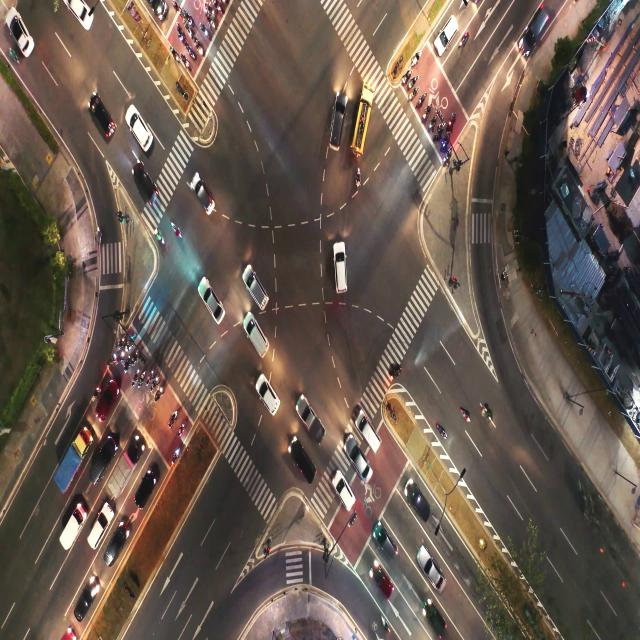bus: (357, 119, 365, 143)
car: (71, 3, 91, 29), (355, 456, 369, 482), (413, 491, 423, 522), (297, 451, 310, 472), (19, 26, 30, 50), (211, 300, 222, 323), (336, 262, 348, 283), (135, 124, 149, 142), (98, 112, 109, 134), (94, 512, 104, 536), (141, 476, 155, 493), (431, 610, 441, 632), (254, 286, 265, 306), (110, 534, 120, 555), (534, 13, 545, 32), (341, 481, 350, 504), (368, 429, 378, 449), (200, 186, 210, 206), (442, 21, 451, 43), (255, 329, 264, 351), (386, 539, 396, 558), (143, 178, 152, 198), (333, 126, 343, 144), (104, 396, 112, 418), (432, 565, 440, 585), (264, 389, 274, 405), (377, 571, 387, 586), (96, 454, 103, 475), (81, 592, 87, 610)
motorcycle: (388, 357, 399, 382), (481, 403, 492, 420), (9, 49, 19, 66), (461, 407, 470, 425), (172, 226, 182, 239), (435, 422, 444, 436), (381, 617, 390, 630), (354, 170, 361, 186), (437, 123, 442, 138), (182, 56, 188, 68), (462, 34, 467, 48), (175, 448, 181, 459), (157, 230, 162, 243), (202, 28, 208, 38), (414, 54, 419, 64), (189, 49, 194, 59), (446, 152, 452, 160), (172, 409, 177, 418), (173, 50, 177, 61), (418, 99, 424, 106), (450, 115, 454, 125), (96, 387, 100, 397), (127, 356, 131, 366), (210, 7, 215, 15), (218, 4, 223, 12), (426, 107, 430, 116), (182, 422, 186, 431), (120, 352, 126, 358), (197, 46, 202, 53), (188, 27, 191, 38), (444, 139, 448, 147), (176, 6, 179, 16), (413, 78, 417, 85), (406, 74, 410, 81), (142, 373, 146, 380), (136, 368, 140, 375), (128, 340, 132, 347), (178, 33, 182, 40), (211, 21, 215, 28), (430, 120, 434, 126), (412, 92, 416, 98), (187, 18, 191, 24), (136, 352, 138, 362), (160, 388, 163, 394), (113, 354, 116, 360), (156, 376, 158, 384), (122, 337, 125, 342), (150, 372, 153, 376)
truck: (67, 517, 78, 538), (306, 406, 314, 434), (119, 459, 127, 484), (66, 450, 76, 470)
